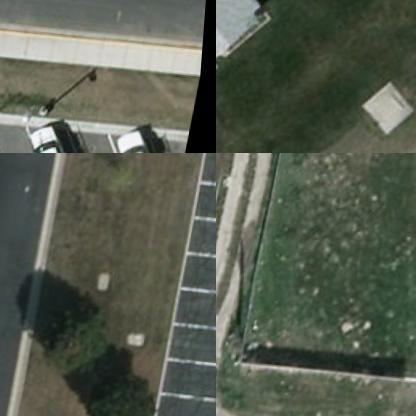pickup: (24, 119, 96, 152), (108, 126, 184, 152)
